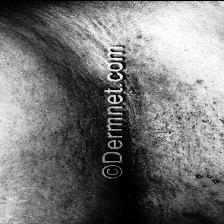Unclassified: (0, 0, 98, 224), (136, 13, 224, 208)
